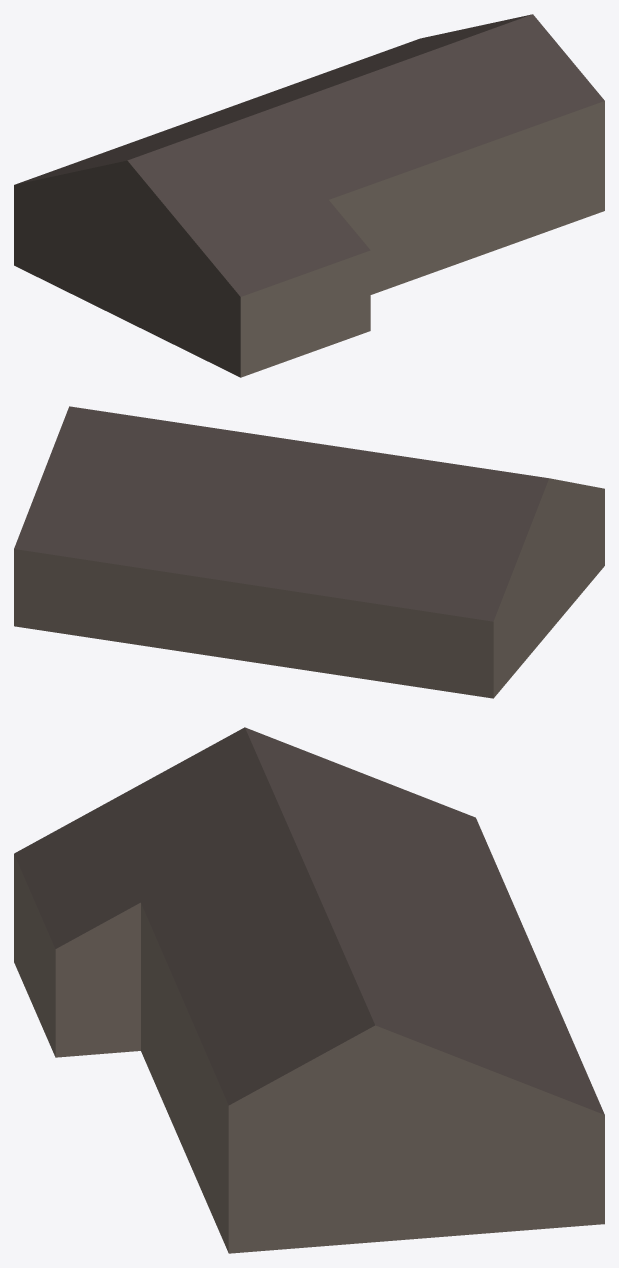
The picture shows the model from 3 angles, top to bottom: view 1: azimuth 30°, elevation 25°; view 2: azimuth 150°, elevation 25°; view 3: azimuth 270°, elevation 25°; orthographic projection. The views are drawn at different scales.
Visible parts, largest first — view 1: HP-w858807449; view 2: HP-w858807449; view 3: HP-w858807449.
Part boxes in pixels (x1,y1,x2,y2): HP-w858807449: [14, 14, 604, 377]; HP-w858807449: [14, 406, 604, 698]; HP-w858807449: [14, 727, 604, 1253].
Size of the model in its own units: 19.45 by 6 by 14.82.
